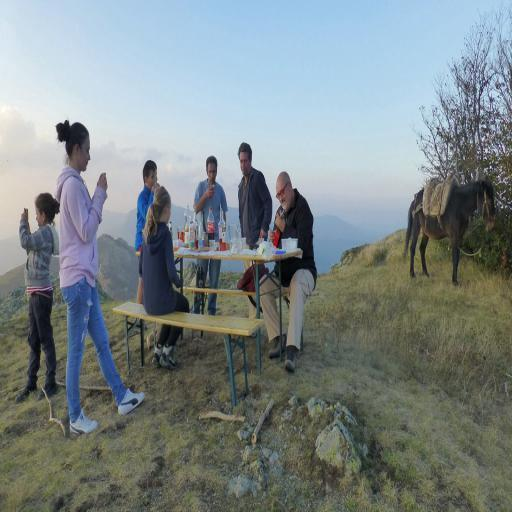horse: (401, 172, 496, 285)
